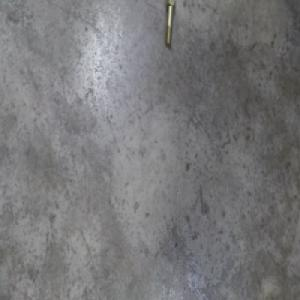Bolt: (163, 4, 176, 52)
